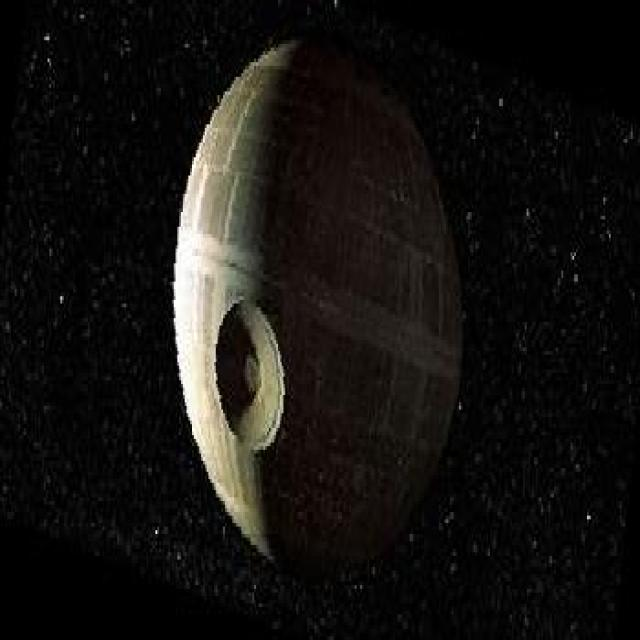Death Star: (168, 22, 466, 585)
